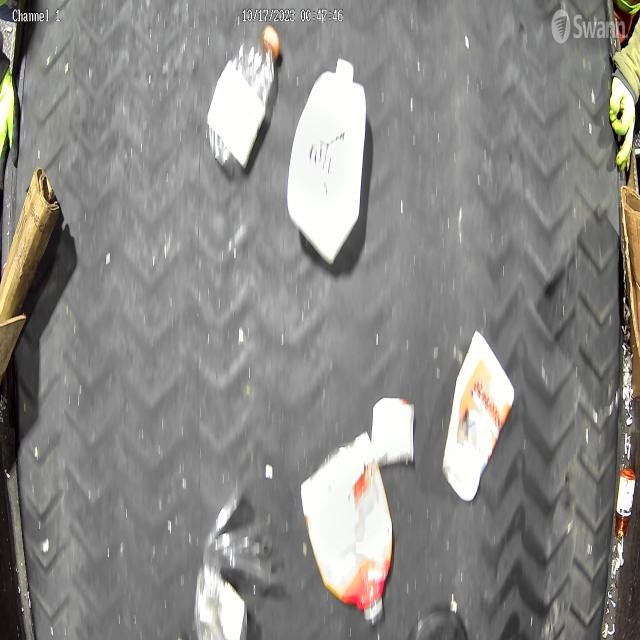milk_jug: (286, 56, 367, 264)
plastic_bottle: (206, 26, 282, 170)
